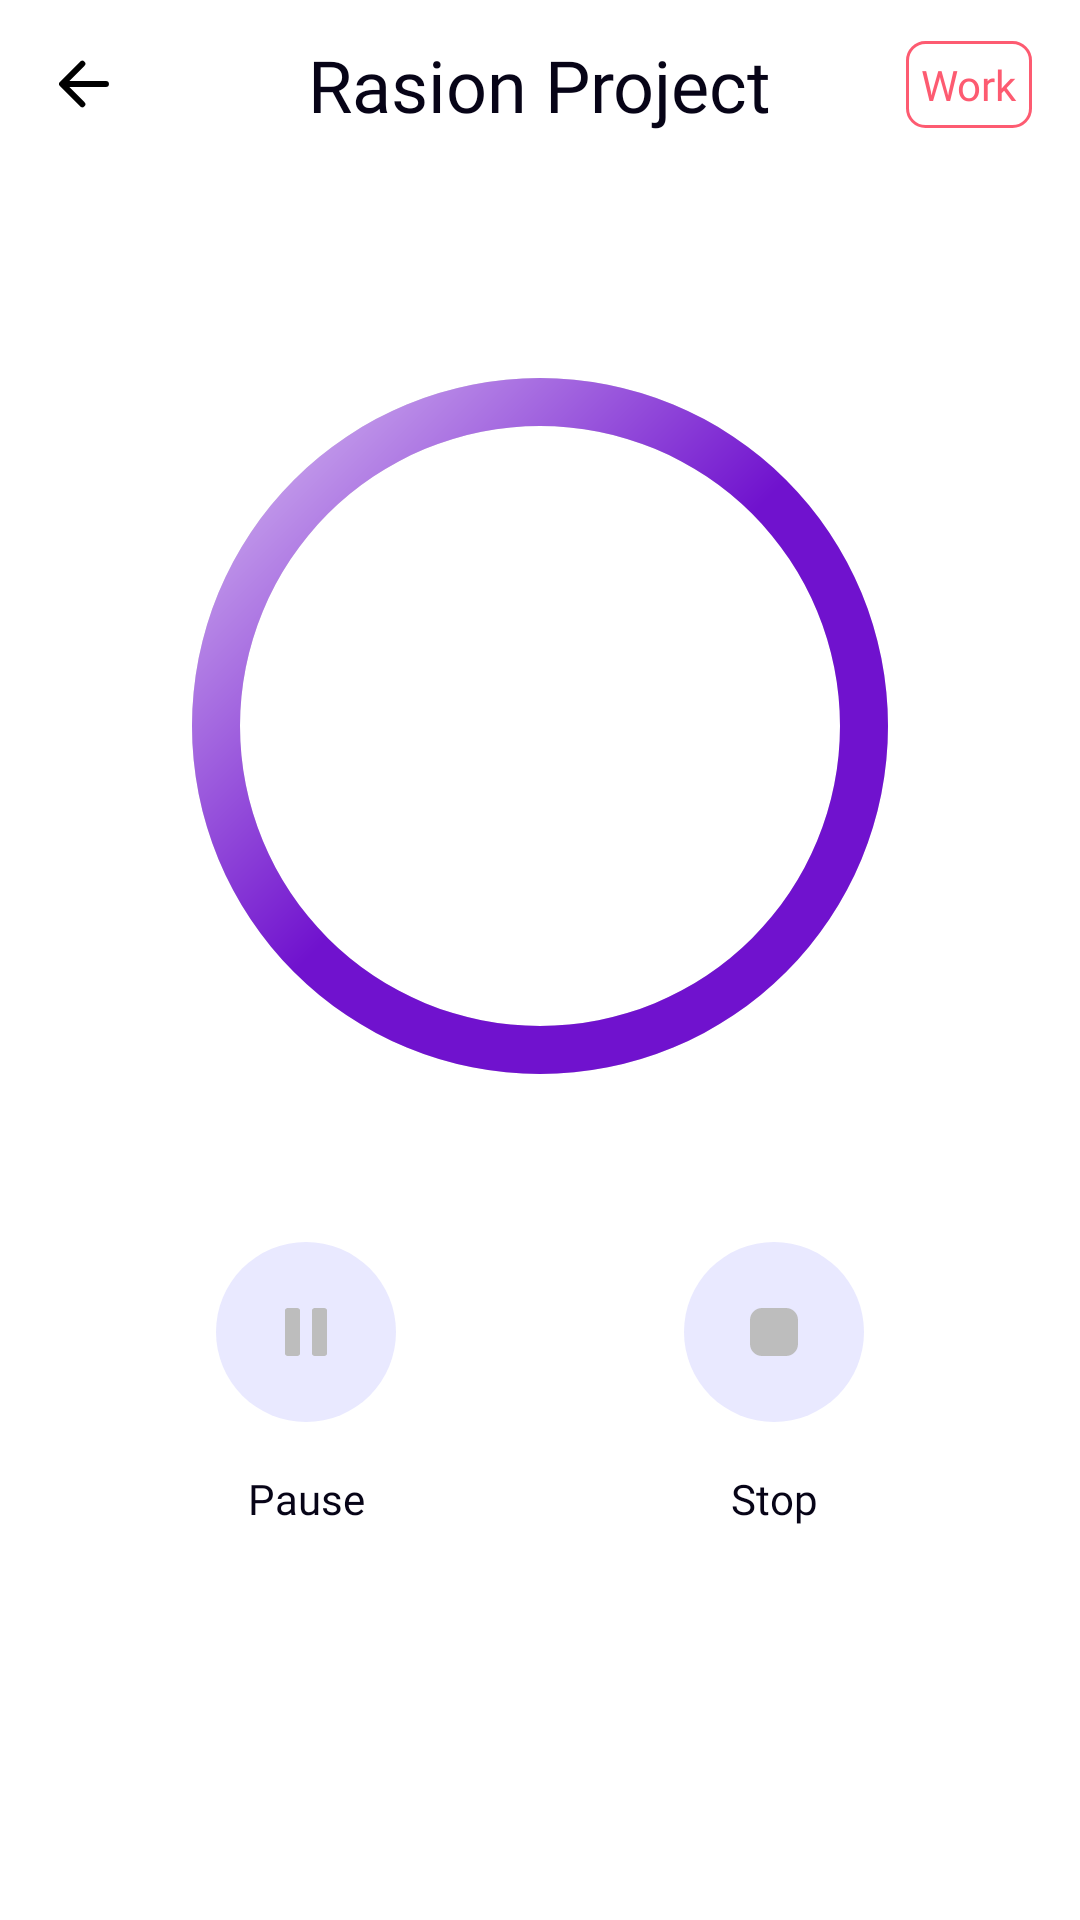

Screen size 1080x1920. Icon name, then its center in pixels as (x,y):
back arrow: (84,84)
